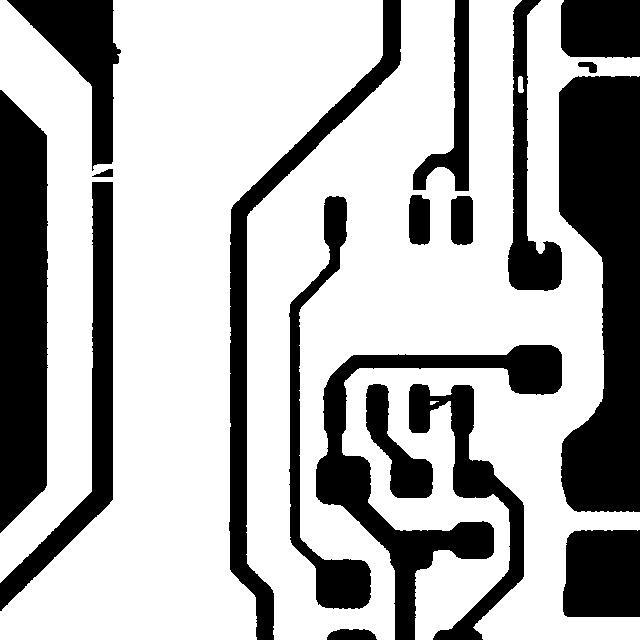copper: (568, 52, 606, 82)
mousebite: (525, 228, 554, 263)
open: (396, 180, 484, 205), (75, 154, 125, 191)
pin-hole: (508, 66, 533, 102)
short: (411, 385, 469, 421)
spur: (97, 33, 130, 73)
